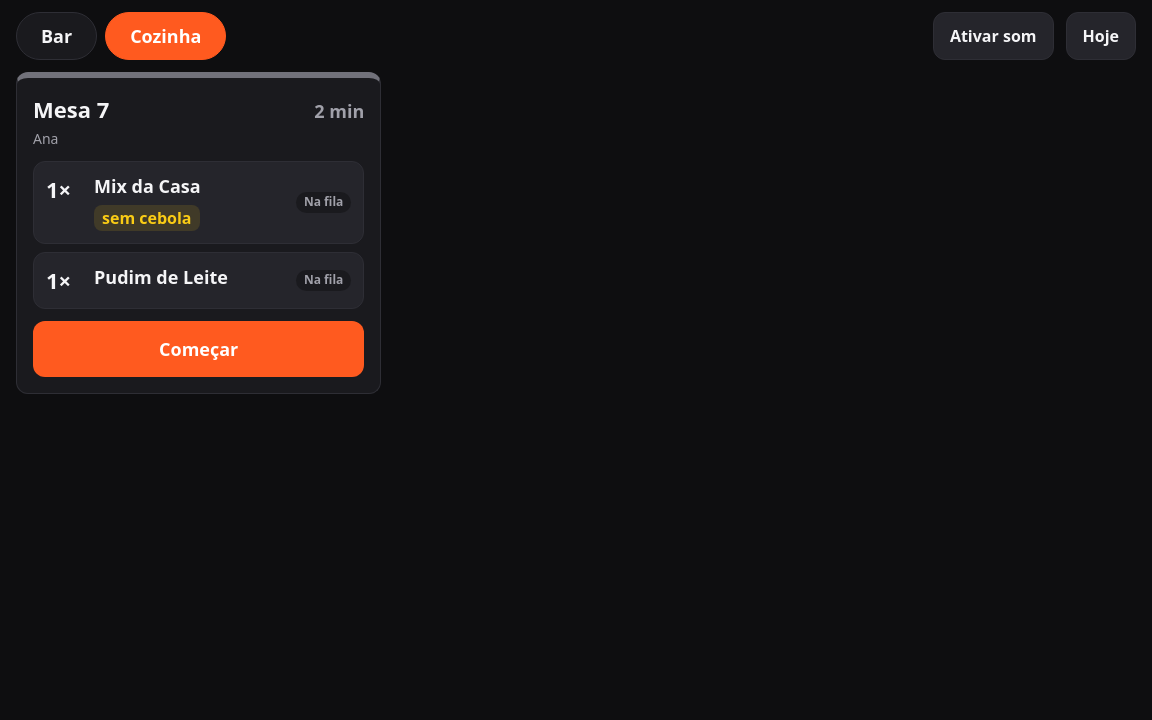
Test: TelaProducao › 409 avisa e recarrega
The width and height of the screenshot is (1152, 720).
What coordinates should you click on to do the following:
click the button with aria-label "Mix da Casa: Na fila"
I would click on:
 (199, 203)
Its box is [33,161,364,244].
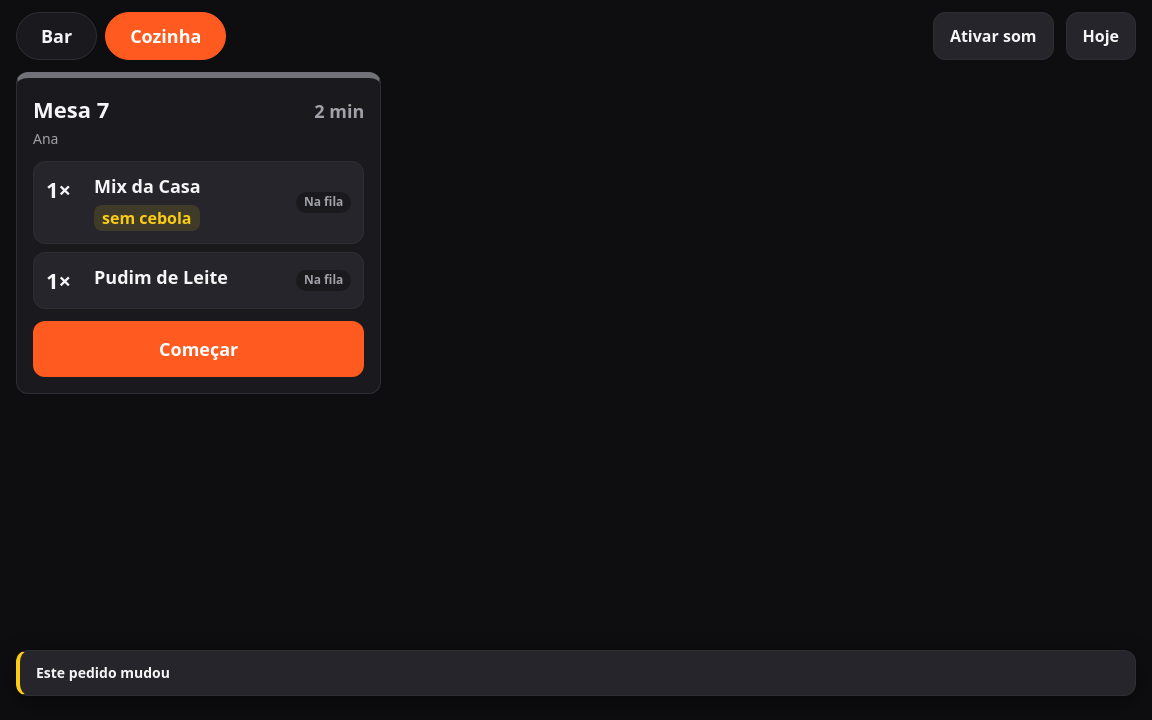
Result: the message reads "Este pedido mudou" at [36,663,170,682]
